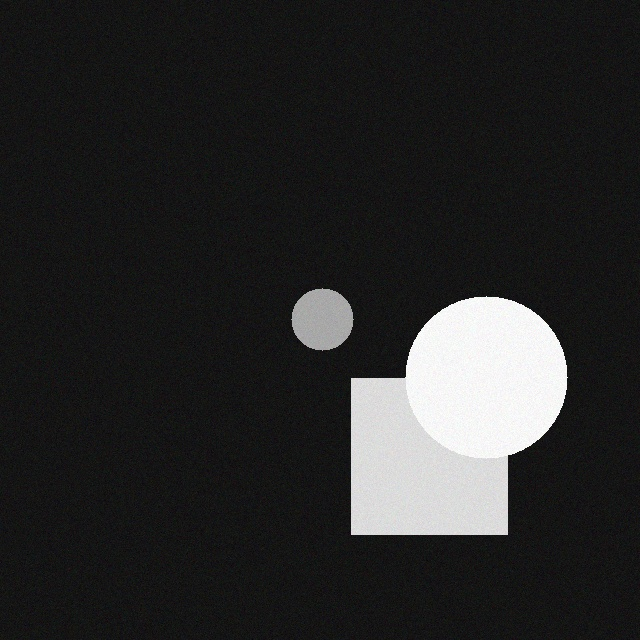circle: (420, 296, 582, 458), (306, 288, 368, 350)
square: (366, 378, 522, 534)
